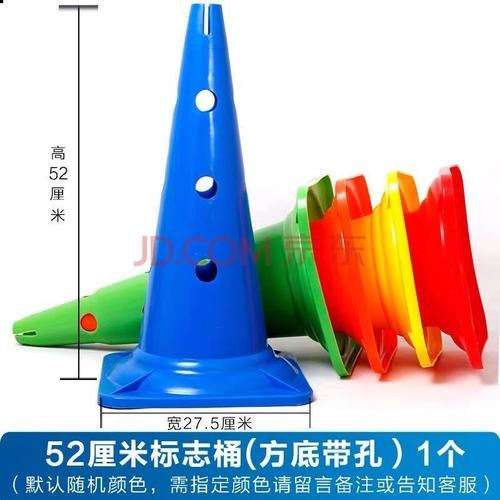cone_barrel: (116, 15, 290, 415)
